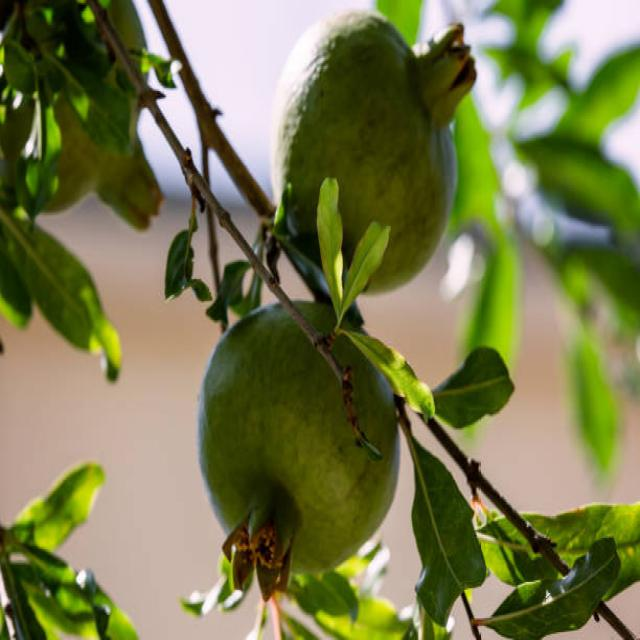Unripe: (196, 296, 401, 600), (270, 11, 477, 300)
